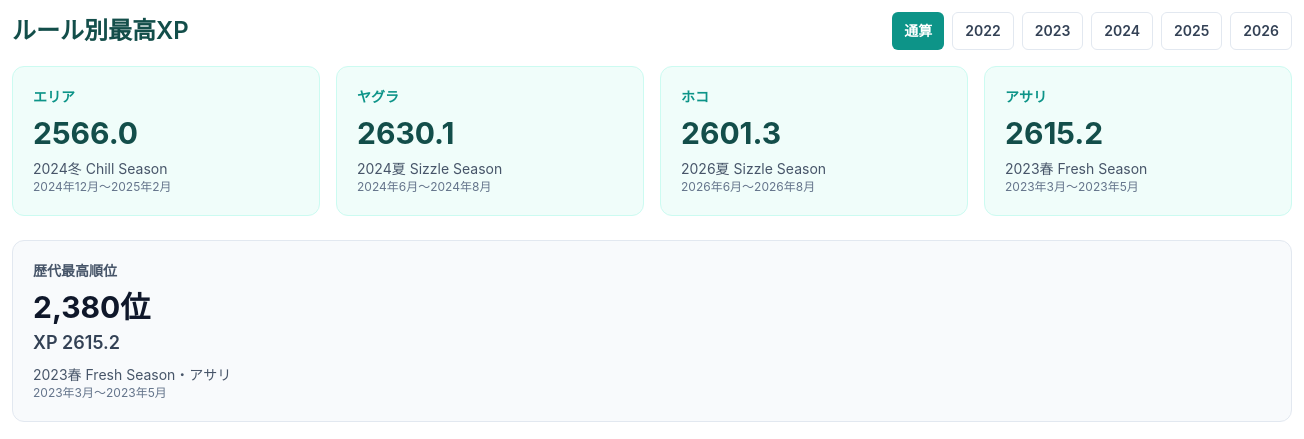
SplatoonHighlights › 2025年を選択すると選択状態とルール別最高XPを切り替える
Click the button "2025": x=1192, y=31 [1161,12,1222,50]
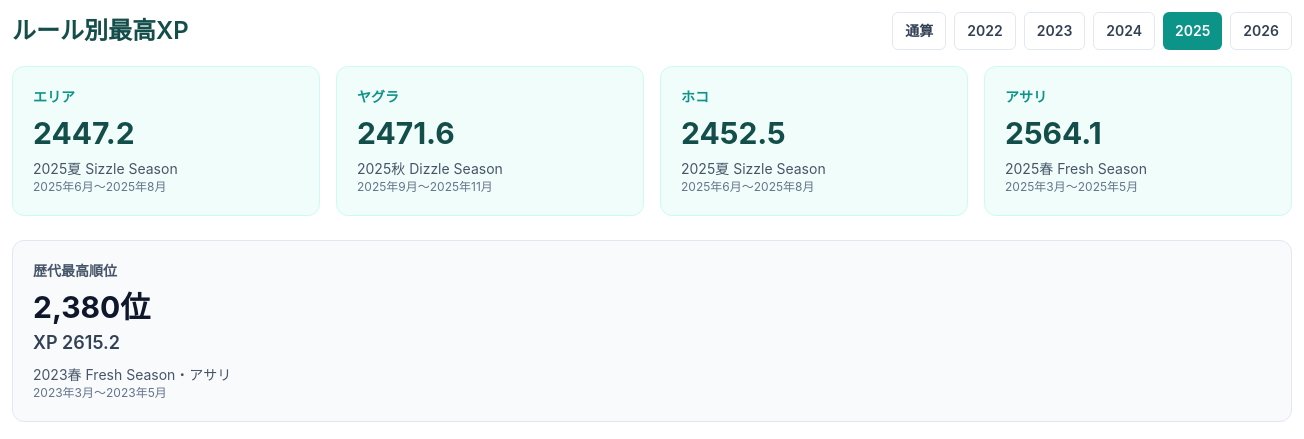
Expected: the text "2447.2" is shown, [33,115,135,151]
Expected: the text "2471.6" is shown, [357,115,455,151]
Expected: the text "2452.5" is shown, [681,115,786,151]
